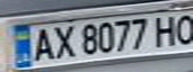0: (93, 19, 118, 54)
7: (130, 16, 154, 51), (112, 17, 133, 53)
8: (78, 20, 100, 56)
A: (27, 25, 57, 63)
H: (151, 12, 184, 47)
O: (172, 12, 193, 46)
X: (48, 22, 78, 61)
